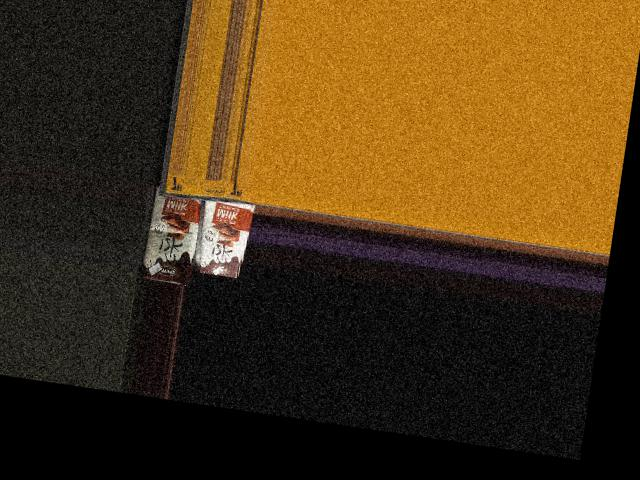chocolate: (195, 188, 260, 282)
